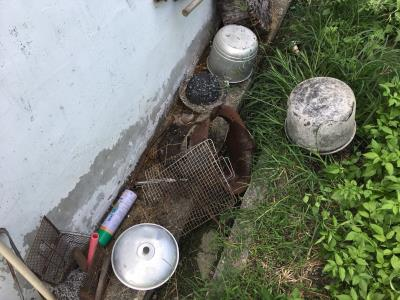bowl: (281, 74, 361, 157), (203, 23, 262, 88)
plate: (109, 222, 182, 294)
